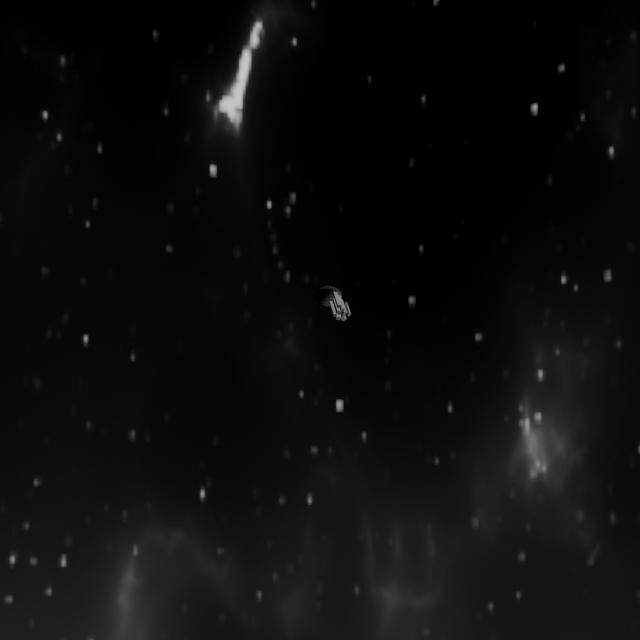large_debris: (316, 279, 355, 328)
